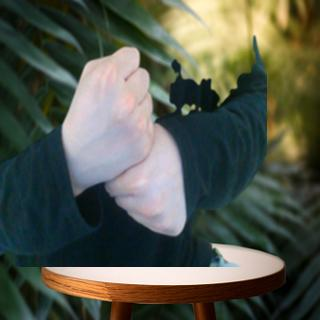CAREFUL: (61, 39, 188, 244)
